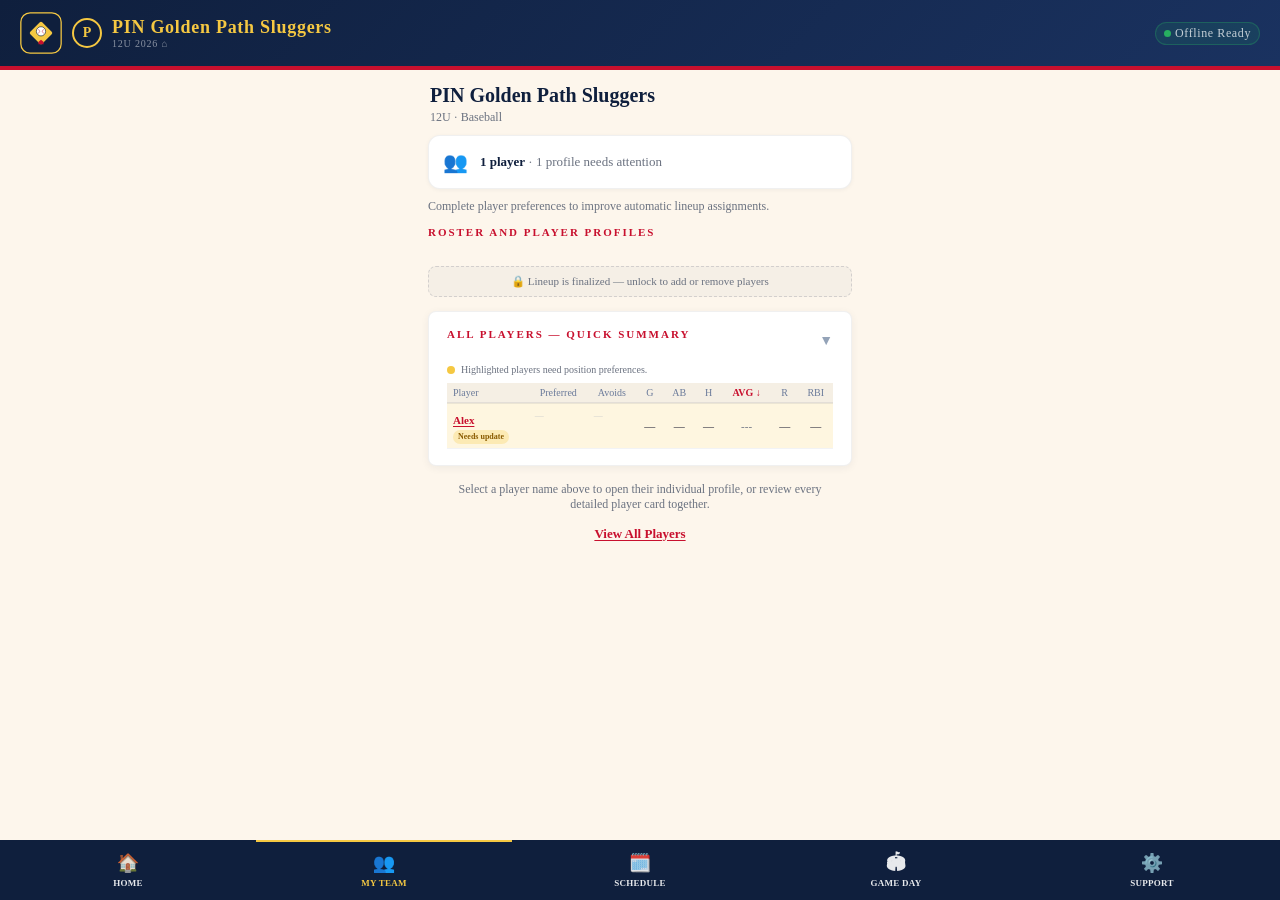
Test: App coach-PIN unlock golden path (#943) › accepts the correct PIN, closes the modal, and unlocks the lineup
The image size is (1280, 900).
Click the button "🏟 Game Day".
click(896, 870)  # box [768,840,1024,899]
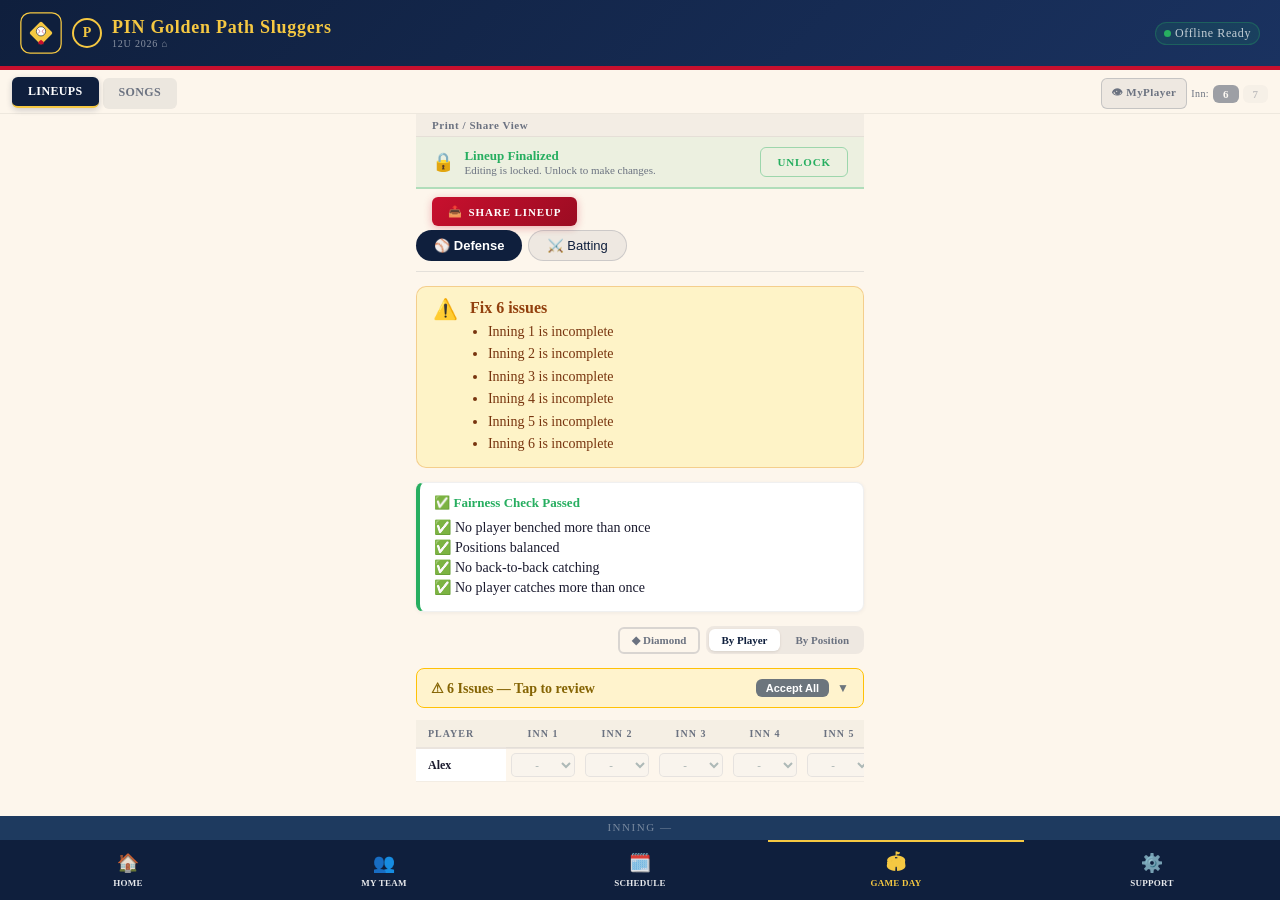
Expected: the text "Lineup Finalized" is shown, [464,148,559,163]
Click the button "Unlock".
click(804, 162)  # box [760,147,848,177]
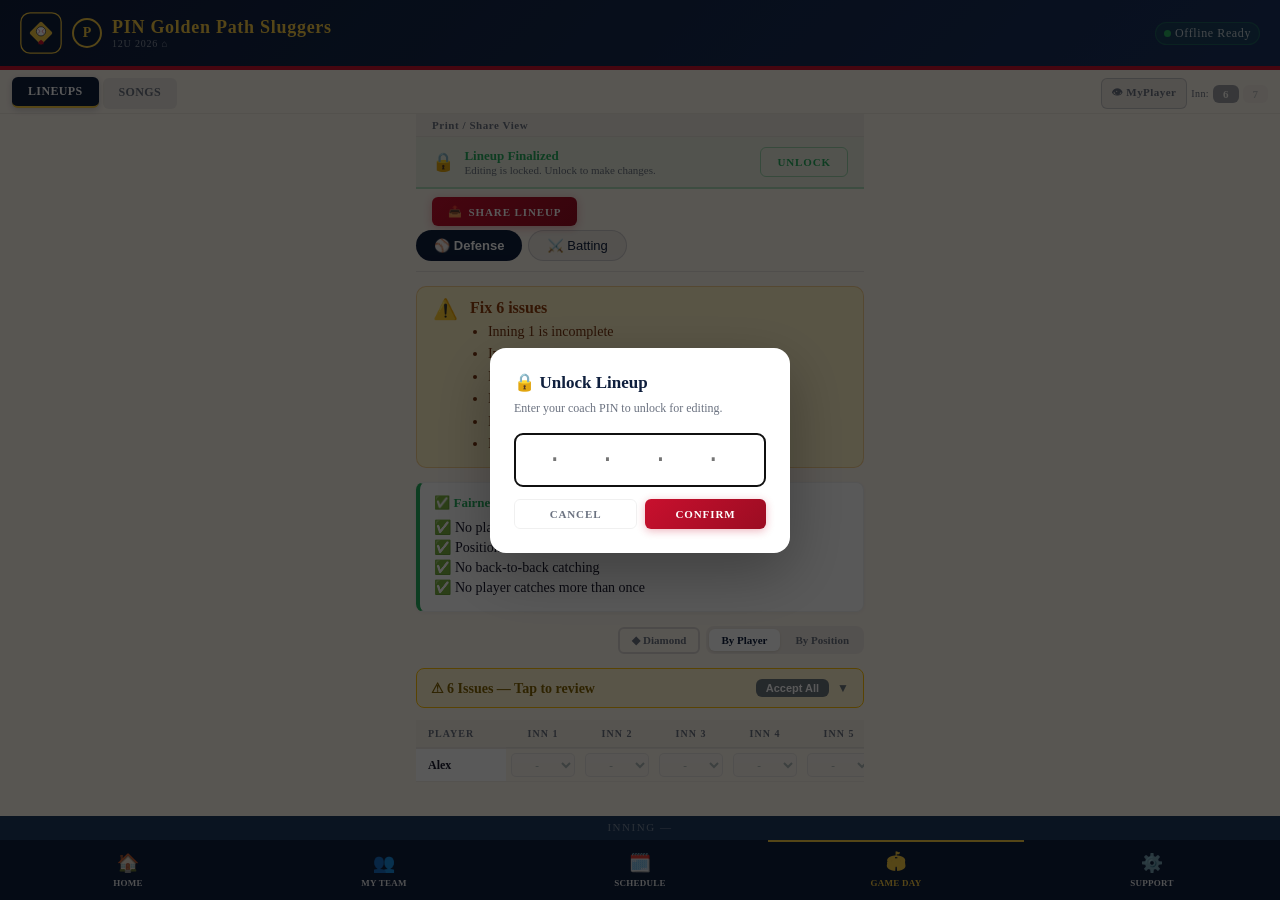
Expected: the text "🔒 Unlock Lineup" is shown, [514,372,648,392]
Type "4271" into the password field with placeholder "· · · ·".
click(640, 460); type("4271")  # box [514,432,766,486]
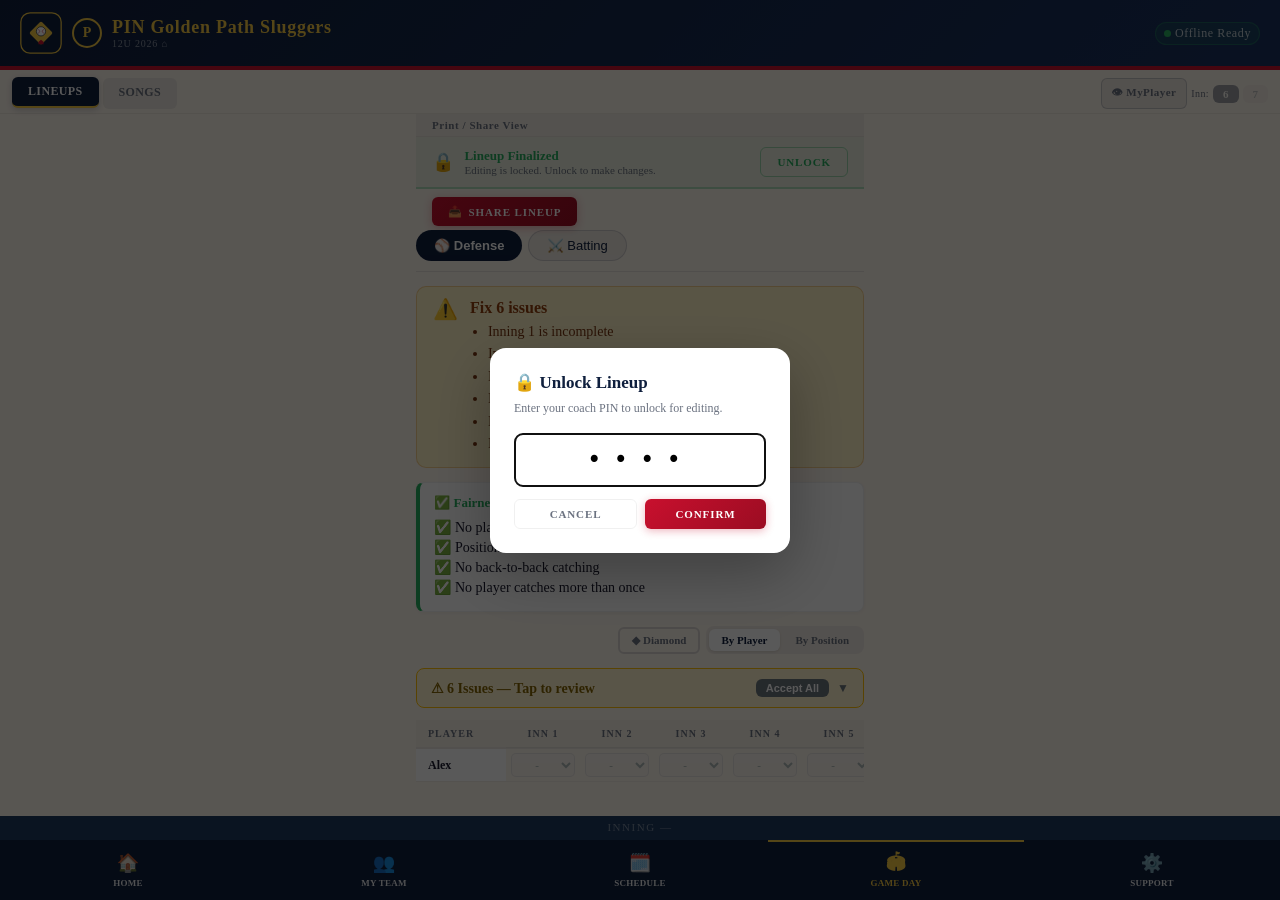
Click the button "Confirm".
click(706, 514)  # box [645,498,766,528]
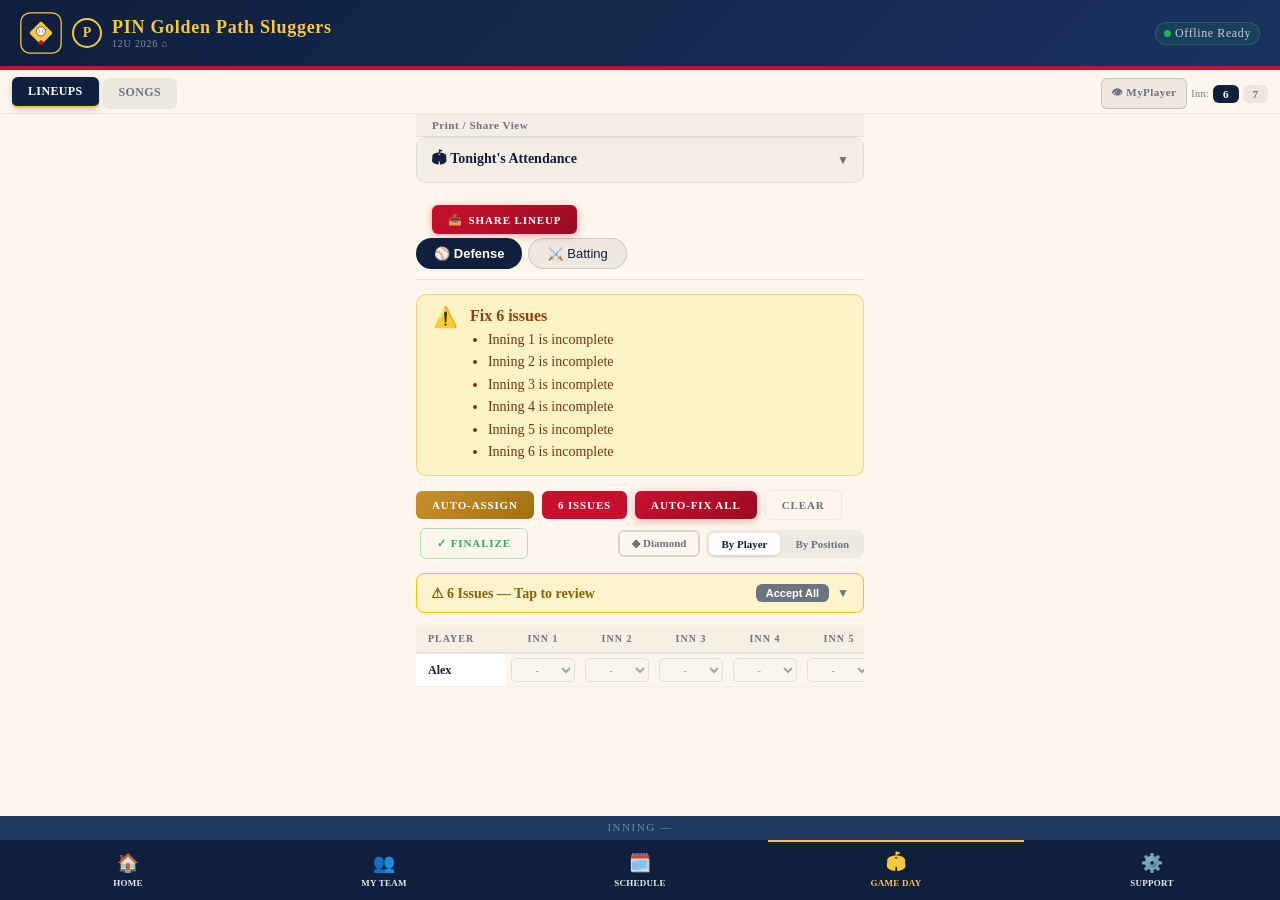
Expected: the text "Unlock Lineup" is gone
Expected: the text "Lineup Finalized" is gone
